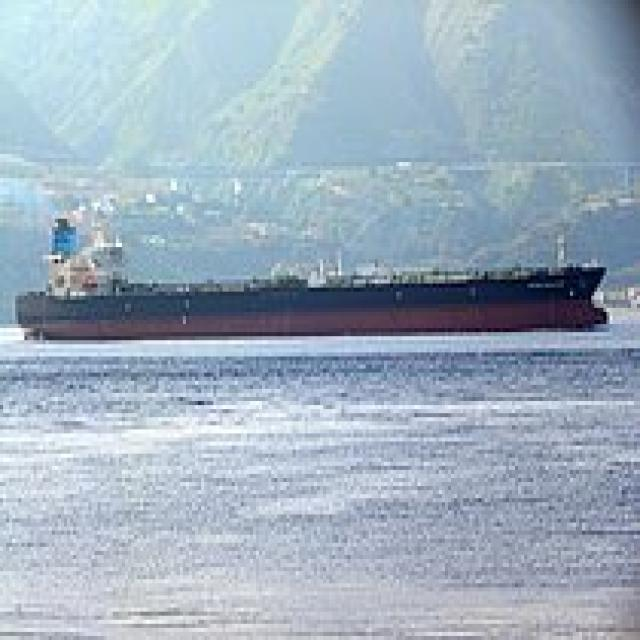Tanker: (9, 215, 613, 340)
